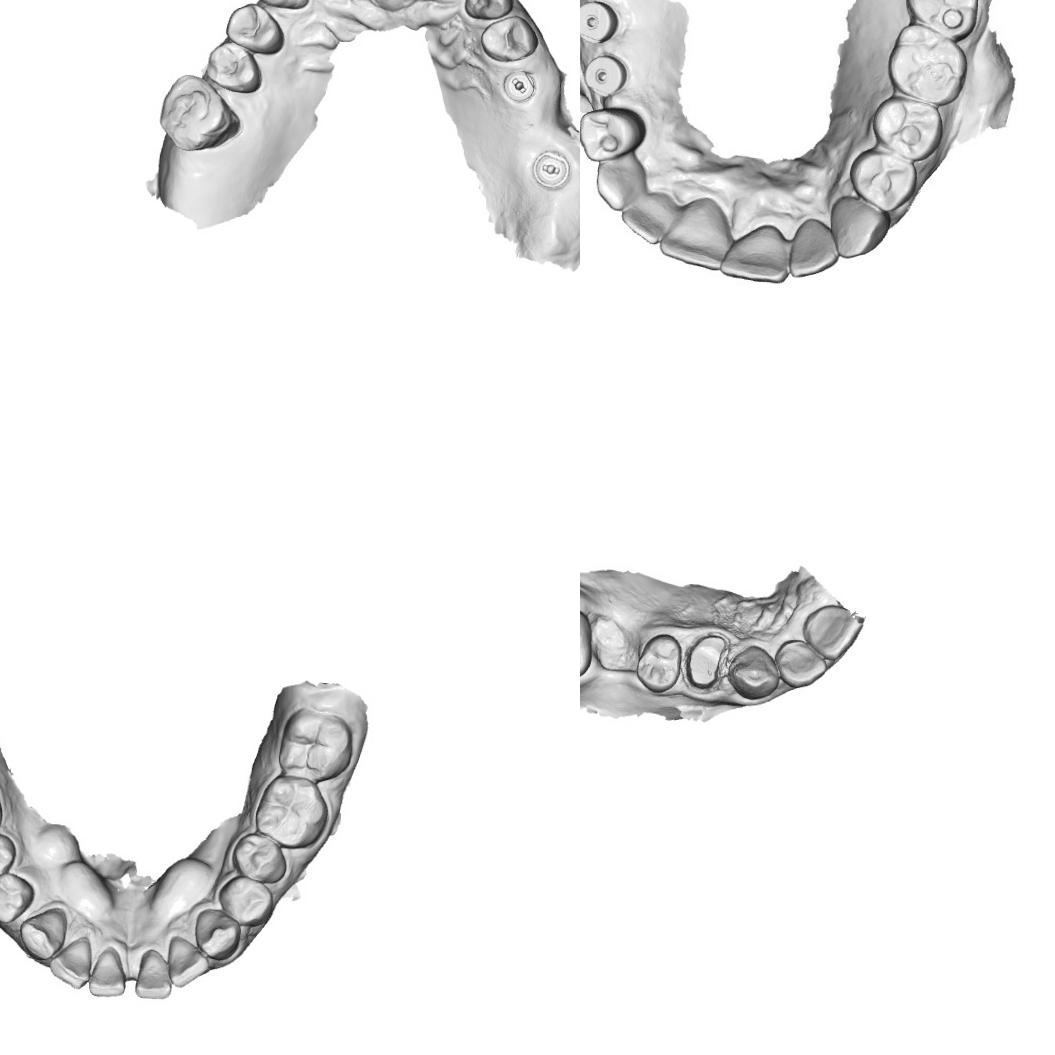canine: (830, 196, 886, 259), (726, 642, 781, 700), (16, 904, 68, 963), (595, 154, 649, 208), (192, 906, 242, 962), (461, 0, 515, 21)
crown: (681, 631, 732, 693)
implant: (580, 51, 631, 103), (580, 0, 622, 48)
implant_minus: (528, 150, 571, 190), (501, 64, 537, 106)
incisor: (663, 201, 726, 264), (722, 227, 786, 286), (800, 604, 863, 662), (788, 215, 838, 275), (774, 638, 829, 689), (164, 933, 212, 990), (48, 936, 96, 993), (623, 193, 675, 241), (85, 948, 128, 1000), (131, 949, 173, 1001)
molar: (158, 72, 238, 154), (888, 19, 964, 103), (276, 706, 354, 785), (253, 774, 331, 850), (907, 0, 978, 34), (580, 603, 595, 681)
premolar: (851, 146, 915, 210), (877, 96, 940, 158), (223, 1, 288, 56), (214, 873, 276, 928), (204, 39, 264, 95), (229, 829, 288, 885), (580, 106, 638, 158), (478, 13, 539, 62), (635, 632, 682, 694), (0, 871, 35, 925), (0, 831, 18, 882)
